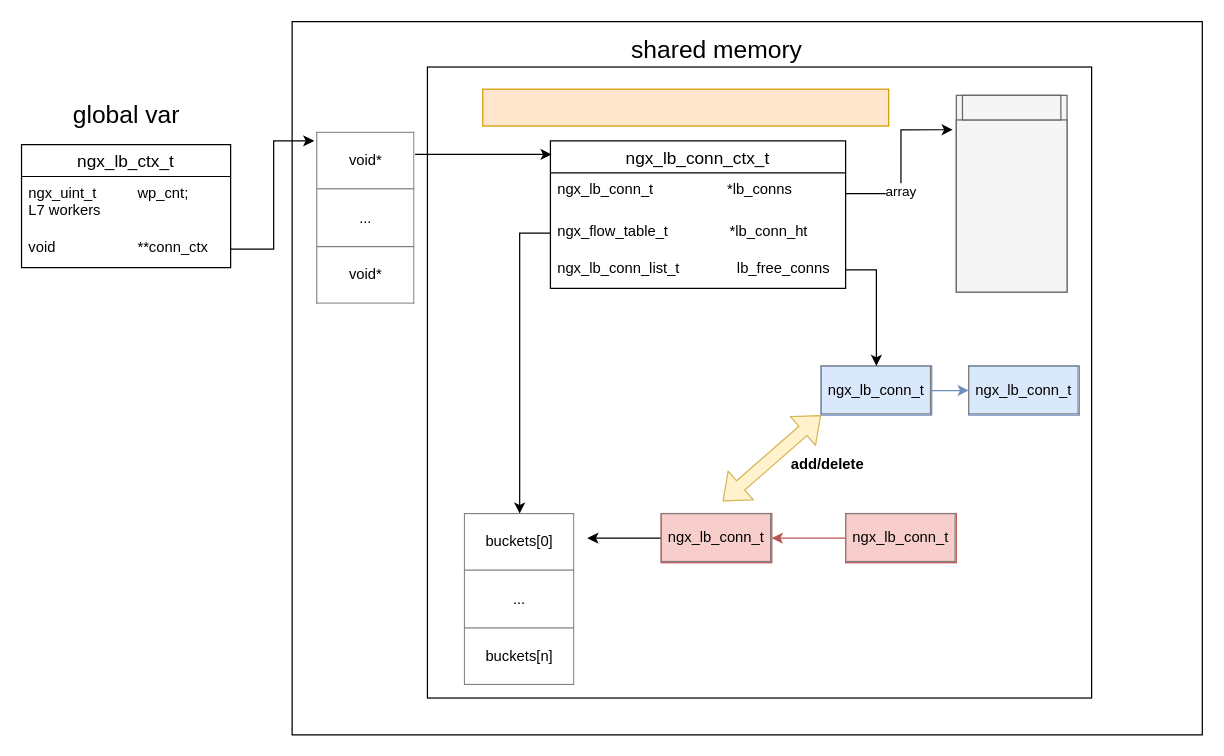
Some shapes in this 1224 by 756 pixel diagram are drawn without their labels. The shapes that lost their labels are listed below. From the top down, each one's centre as x and y in pixels, then its label:
At (x=685, y=107): "each L7 worker has its own like this".
At (x=1011, y=107): "max_conns".
At (x=1011, y=205): "ngx_lb_conn_t ... ngx_lb_conn_t".
